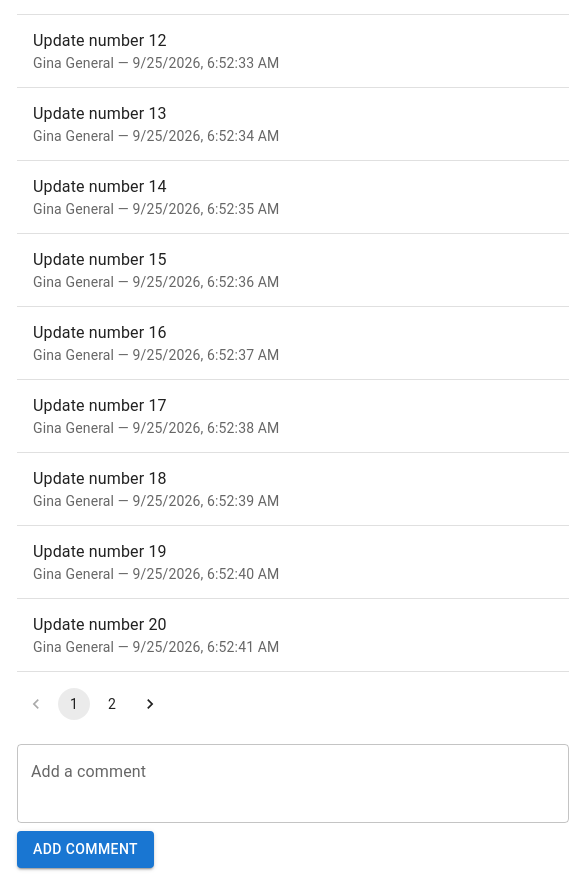
Test: Add comment › loads additional pages when a ticket has more comments than one page (FR-006a)
The width and height of the screenshot is (586, 894).
(page scrolled)
Check: the text "Update number 21" is not shown
What coordinates should you click on to do the following:
click the button named "go to page 2"
I would click on:
 (112, 704)
Its box is [96,688,128,720].
(page scrolled)
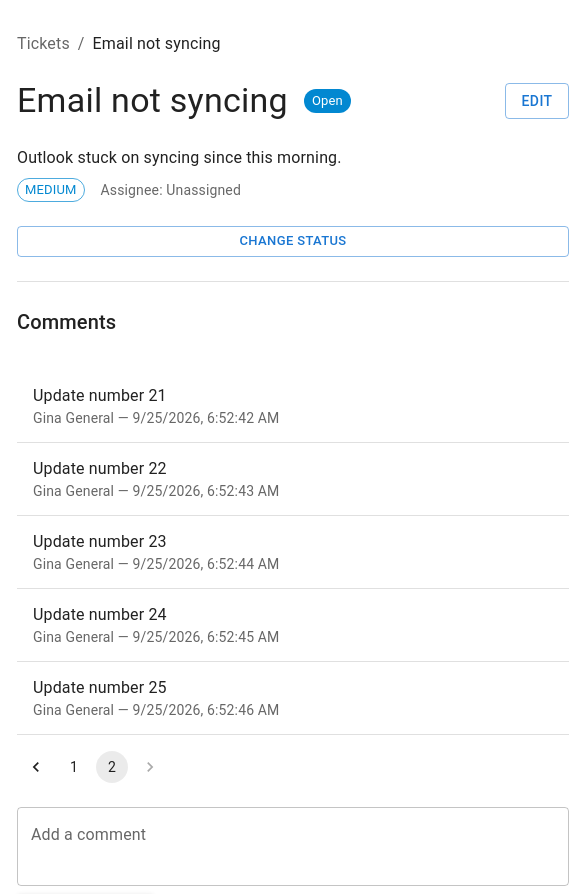
Check: the text "Update number 21" is shown, box [33,386,167,405]
